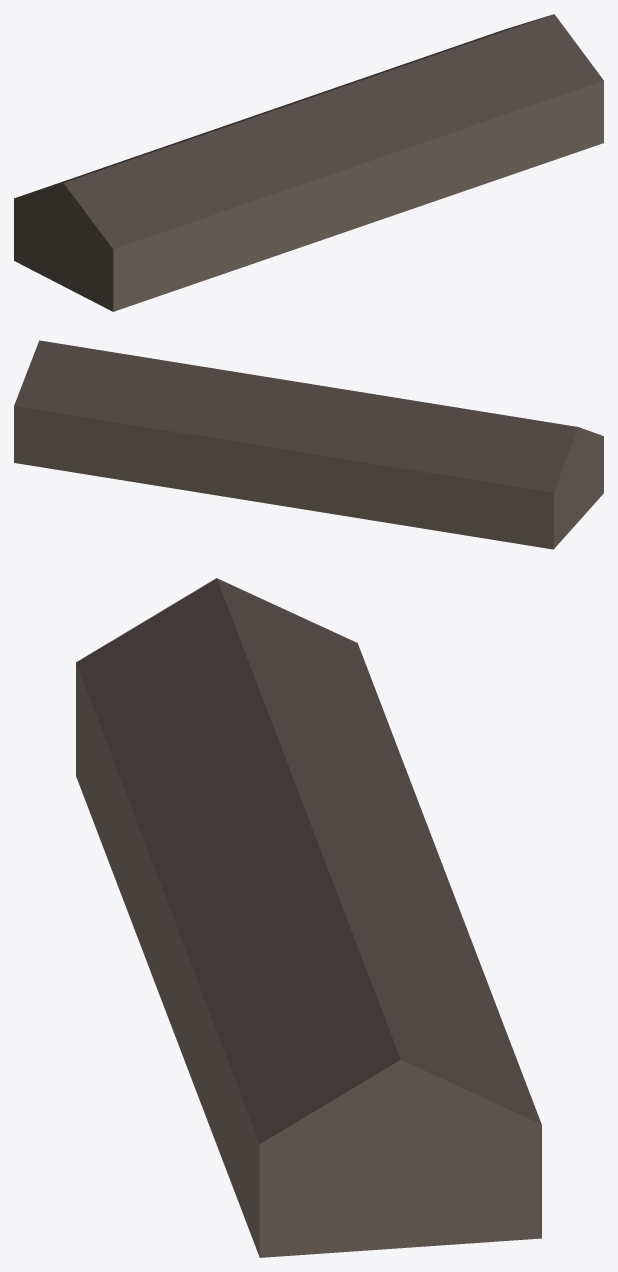
3 renders of one model, top to bottom at view 1: azimuth 30°, elevation 25°; view 2: azimuth 150°, elevation 25°; view 3: azimuth 270°, elevation 25°, orthographic. The views are drawn at different scales.
Parts seen in each view (by area): view 1: HP-w408450754; view 2: HP-w408450754; view 3: HP-w408450754.
Boxes of the visible parts, x1=… form: HP-w408450754: x1=14, y1=14, x2=603, y2=311; HP-w408450754: x1=14, y1=340, x2=603, y2=549; HP-w408450754: x1=76, y1=578, x2=541, y2=1257.
Size of the model in its own units: 28.34 by 4.97 by 11.13.
